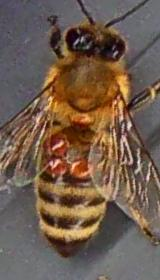varroa_mite: (62, 148, 98, 182), (39, 130, 75, 158), (34, 150, 68, 178)
